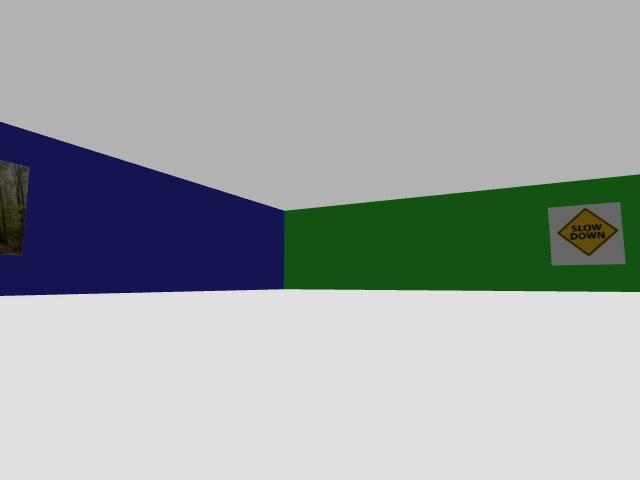slowsign: (549, 202, 625, 265)
